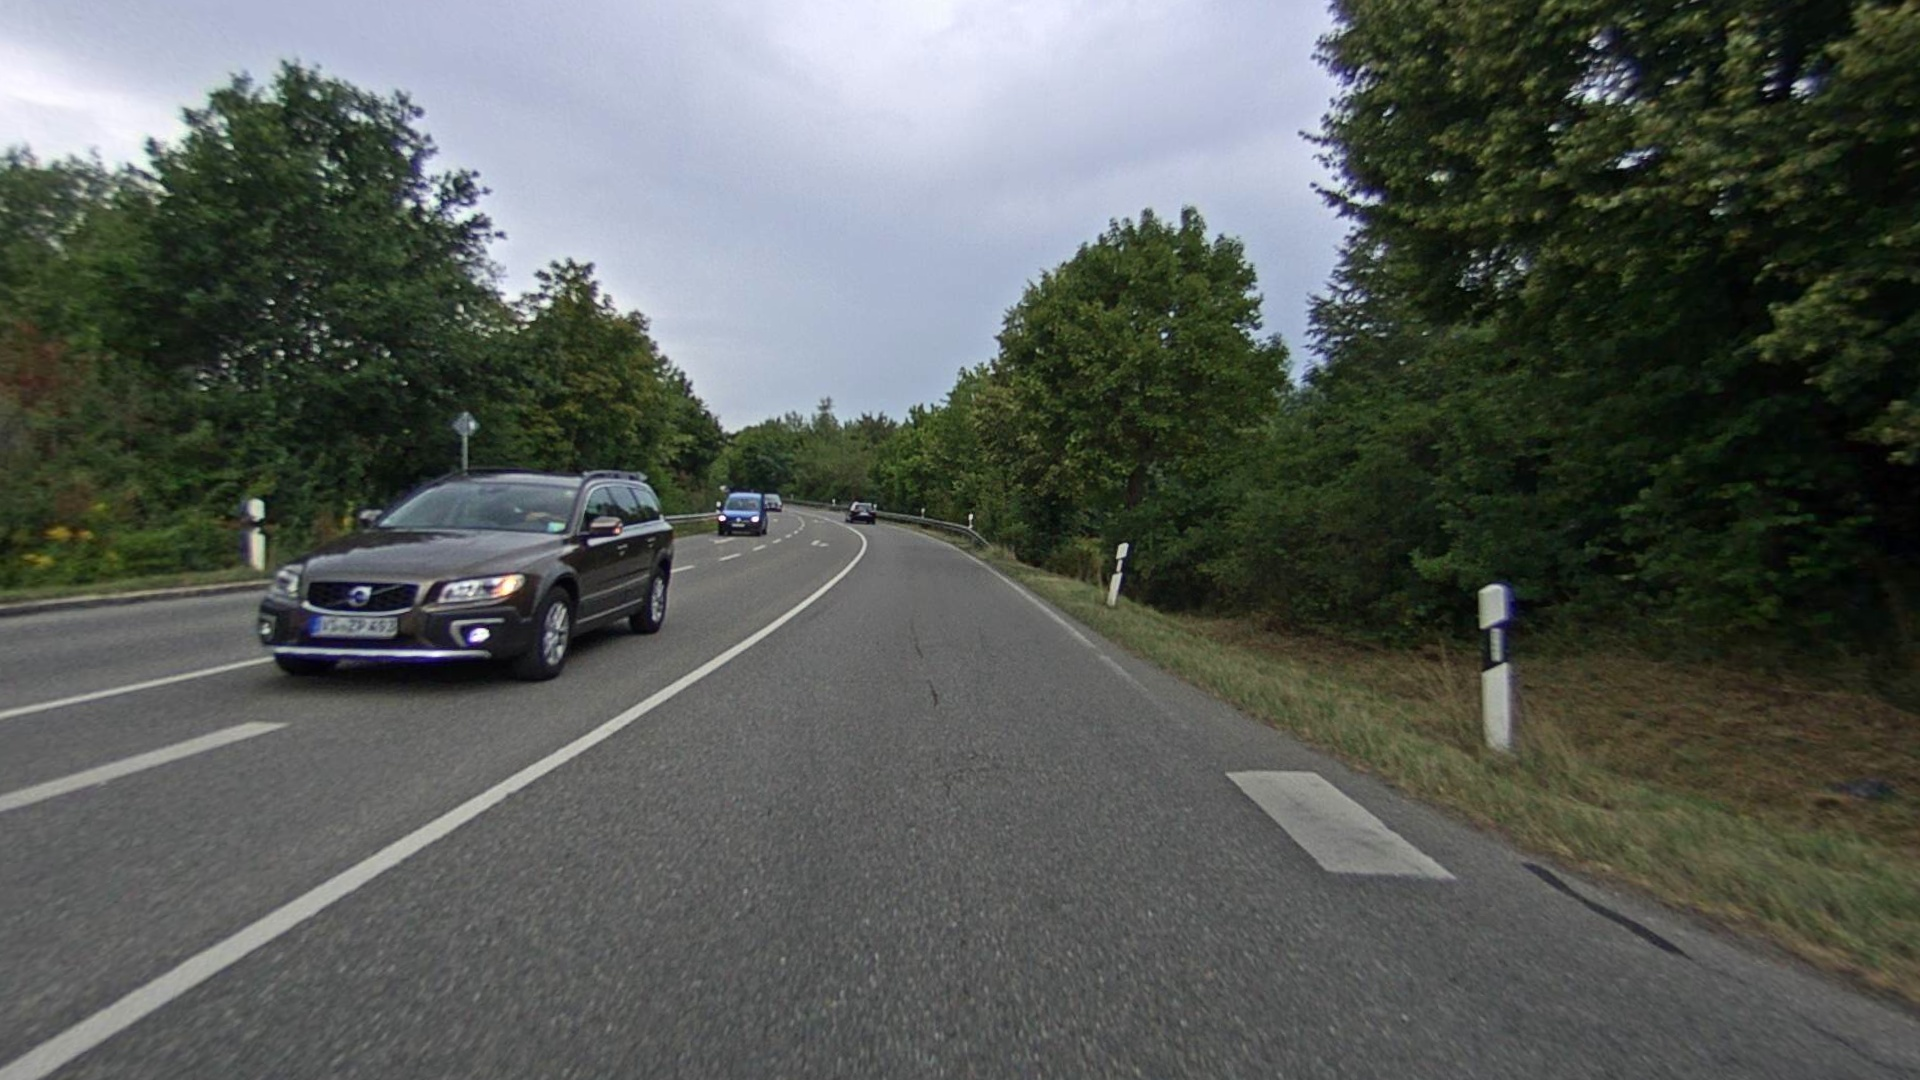car: (249, 462, 679, 694)
